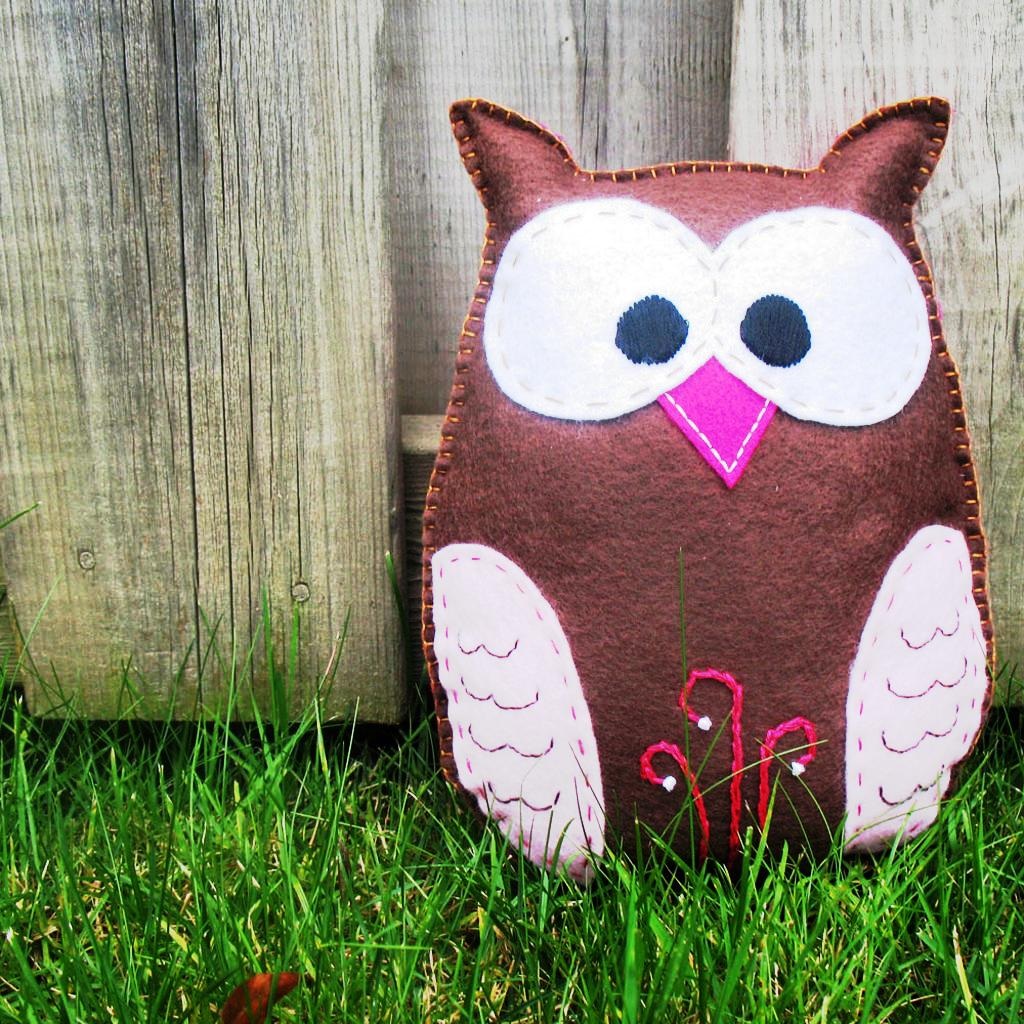Owl: (416, 93, 1008, 891)
